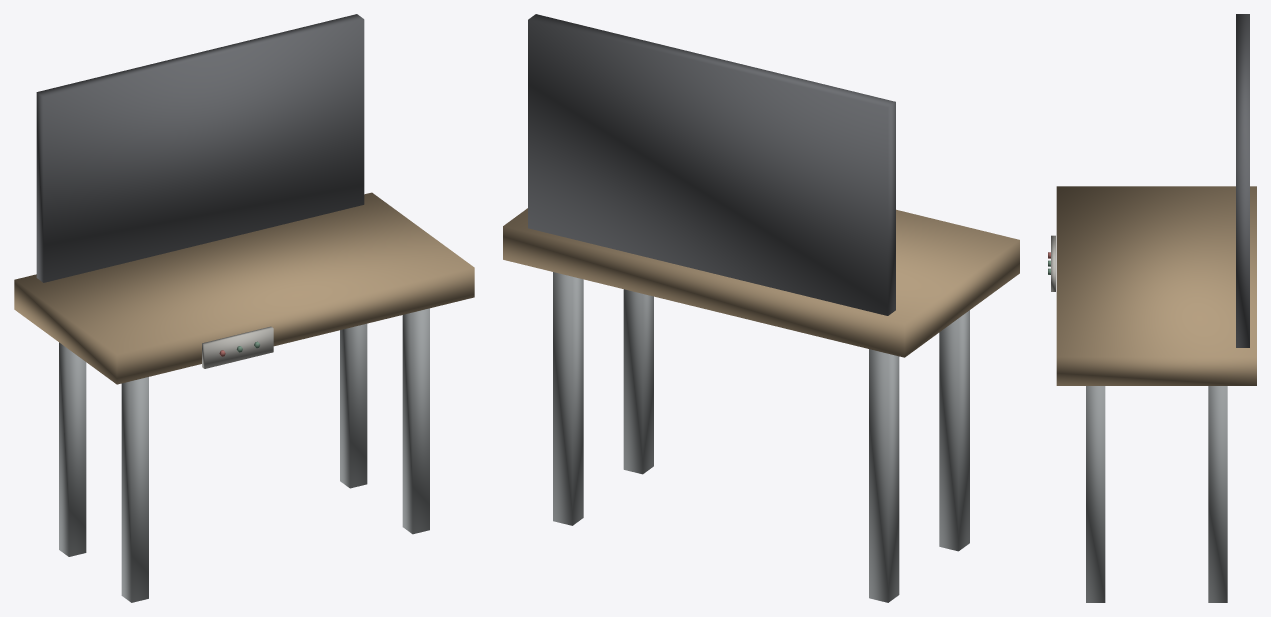
File: basement_workbench__tall.glb
3 views of the same model, side by side, from view 1: azimuth 30°, elevation 25°; view 2: azimuth 150°, elevation 25°; view 3: azimuth 270°, elevation 25° (orthographic). The views are drawn at different scales.
Visible parts, largest first — view 1: world; view 2: world; view 3: world.
Boxes of the visible parts, box(x1,y1,x2,y2) form: world: box(14, 14, 474, 602); world: box(503, 14, 1019, 602); world: box(1048, 14, 1256, 602).
Size of the model in its own units: 1.45 by 1.75 by 0.751.
